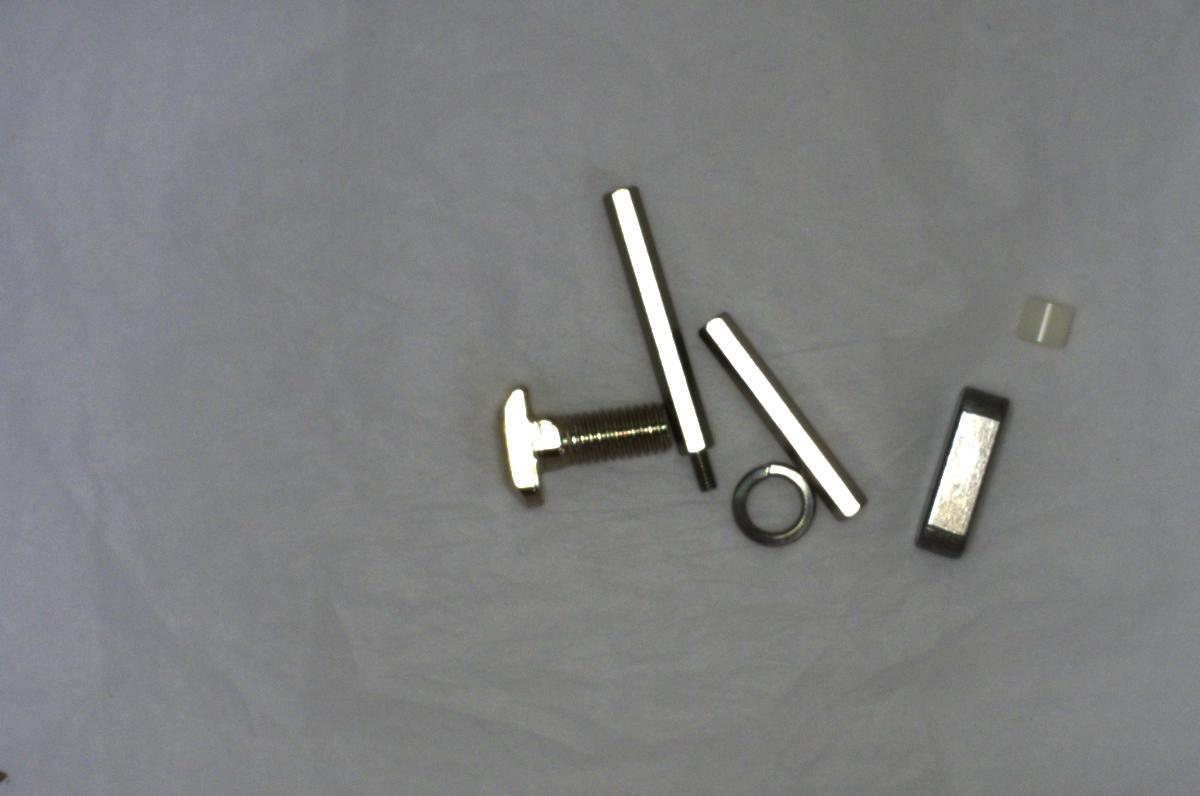Double hexagonal column: (691, 308, 875, 531)
Hexagonal steel column: (593, 173, 726, 496)
Keybar: (891, 377, 1019, 567)
Plastic cushion pillar: (1015, 287, 1087, 351)
Spring washer: (724, 455, 820, 553)
T-shaped screw: (482, 371, 683, 519)
